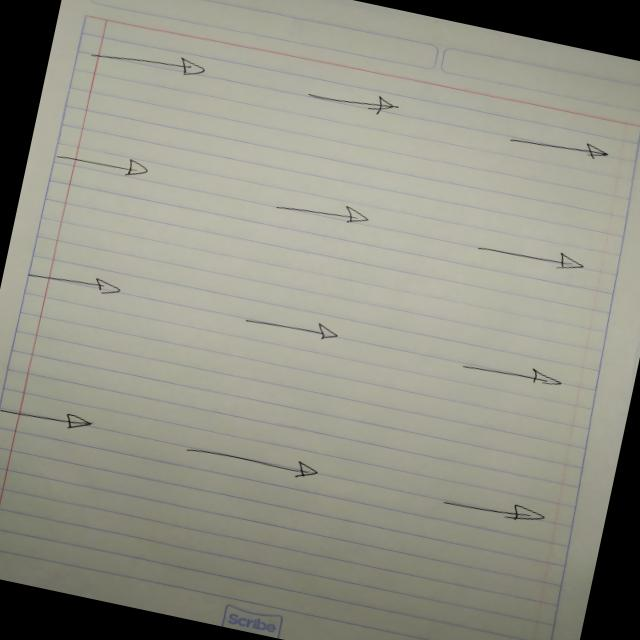arrow_line_right: (172, 425, 326, 492), (86, 32, 222, 90), (226, 297, 354, 353), (464, 225, 594, 280), (433, 479, 558, 535), (450, 346, 570, 402), (497, 119, 622, 172), (15, 254, 133, 310), (294, 75, 417, 128), (261, 184, 384, 237), (48, 139, 170, 192), (0, 392, 103, 445)
